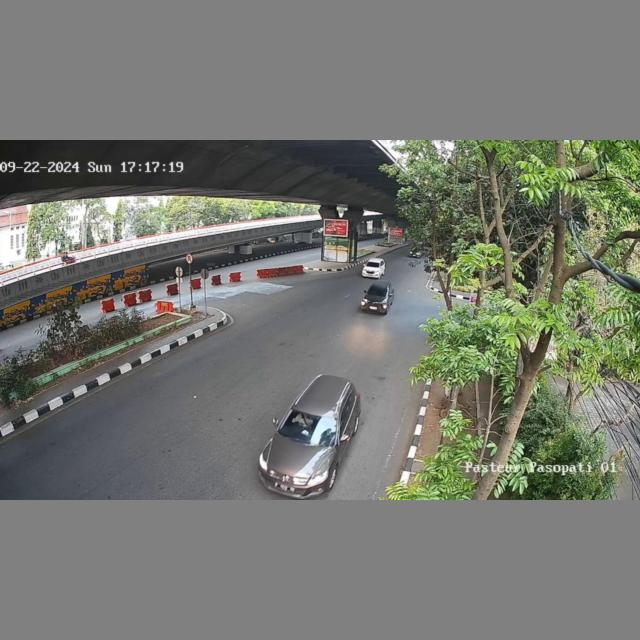windshield: (278, 409, 339, 444), (367, 287, 388, 296), (366, 260, 379, 267)
